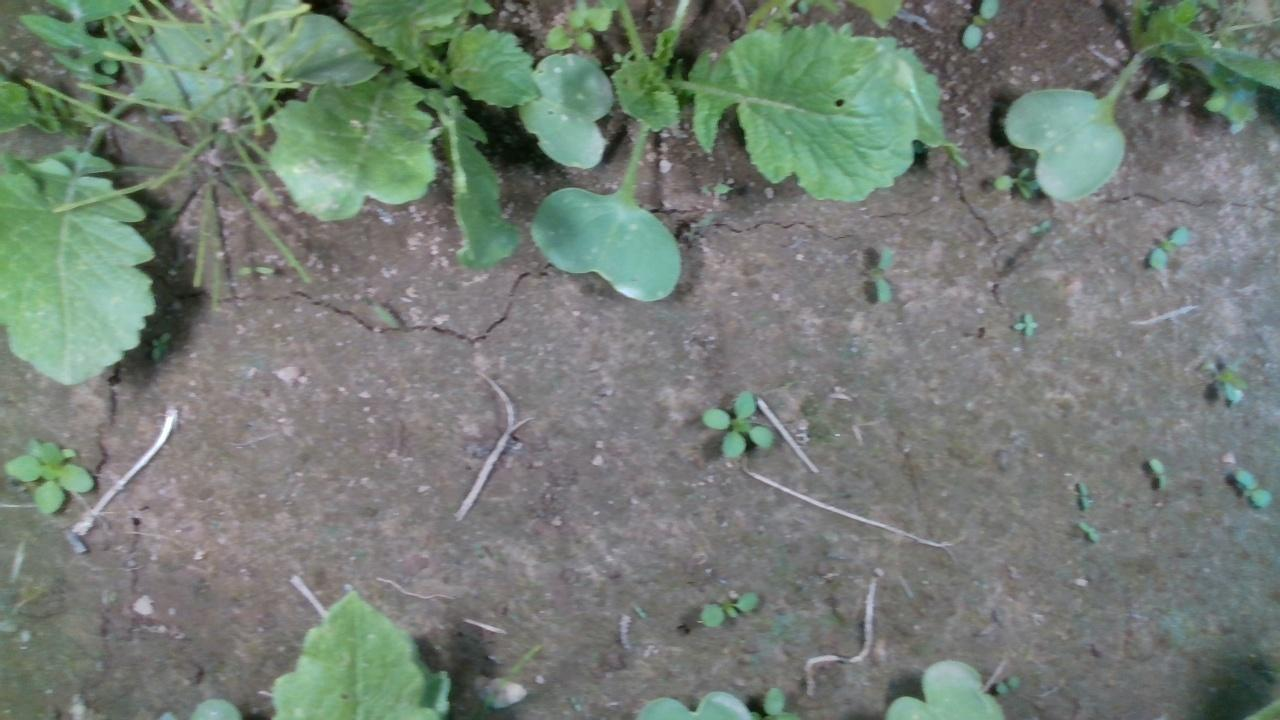weed: (698, 386, 774, 460), (696, 590, 758, 628), (1146, 223, 1188, 269), (1230, 465, 1272, 510), (872, 242, 892, 303), (1010, 308, 1038, 339), (1147, 456, 1168, 494), (1076, 519, 1099, 543), (1076, 480, 1090, 512)
